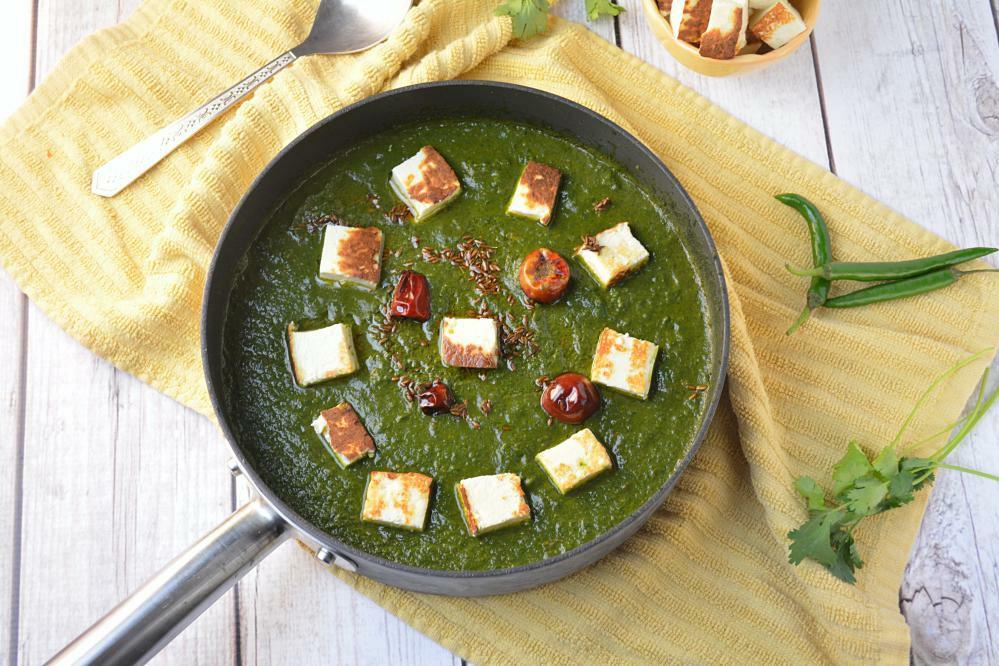PalakPaneer: (223, 123, 701, 568)
